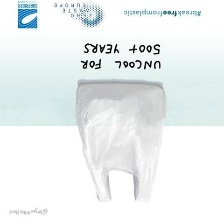plastic_bag: (71, 78, 170, 205)
